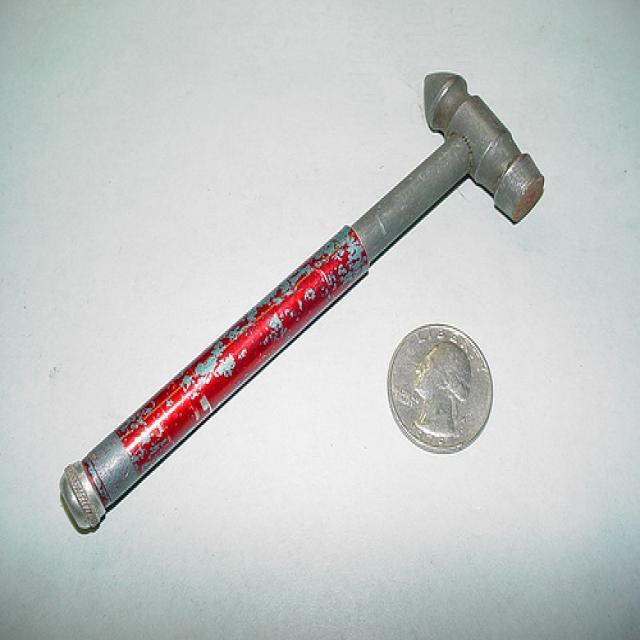hammer: (56, 59, 556, 546)
